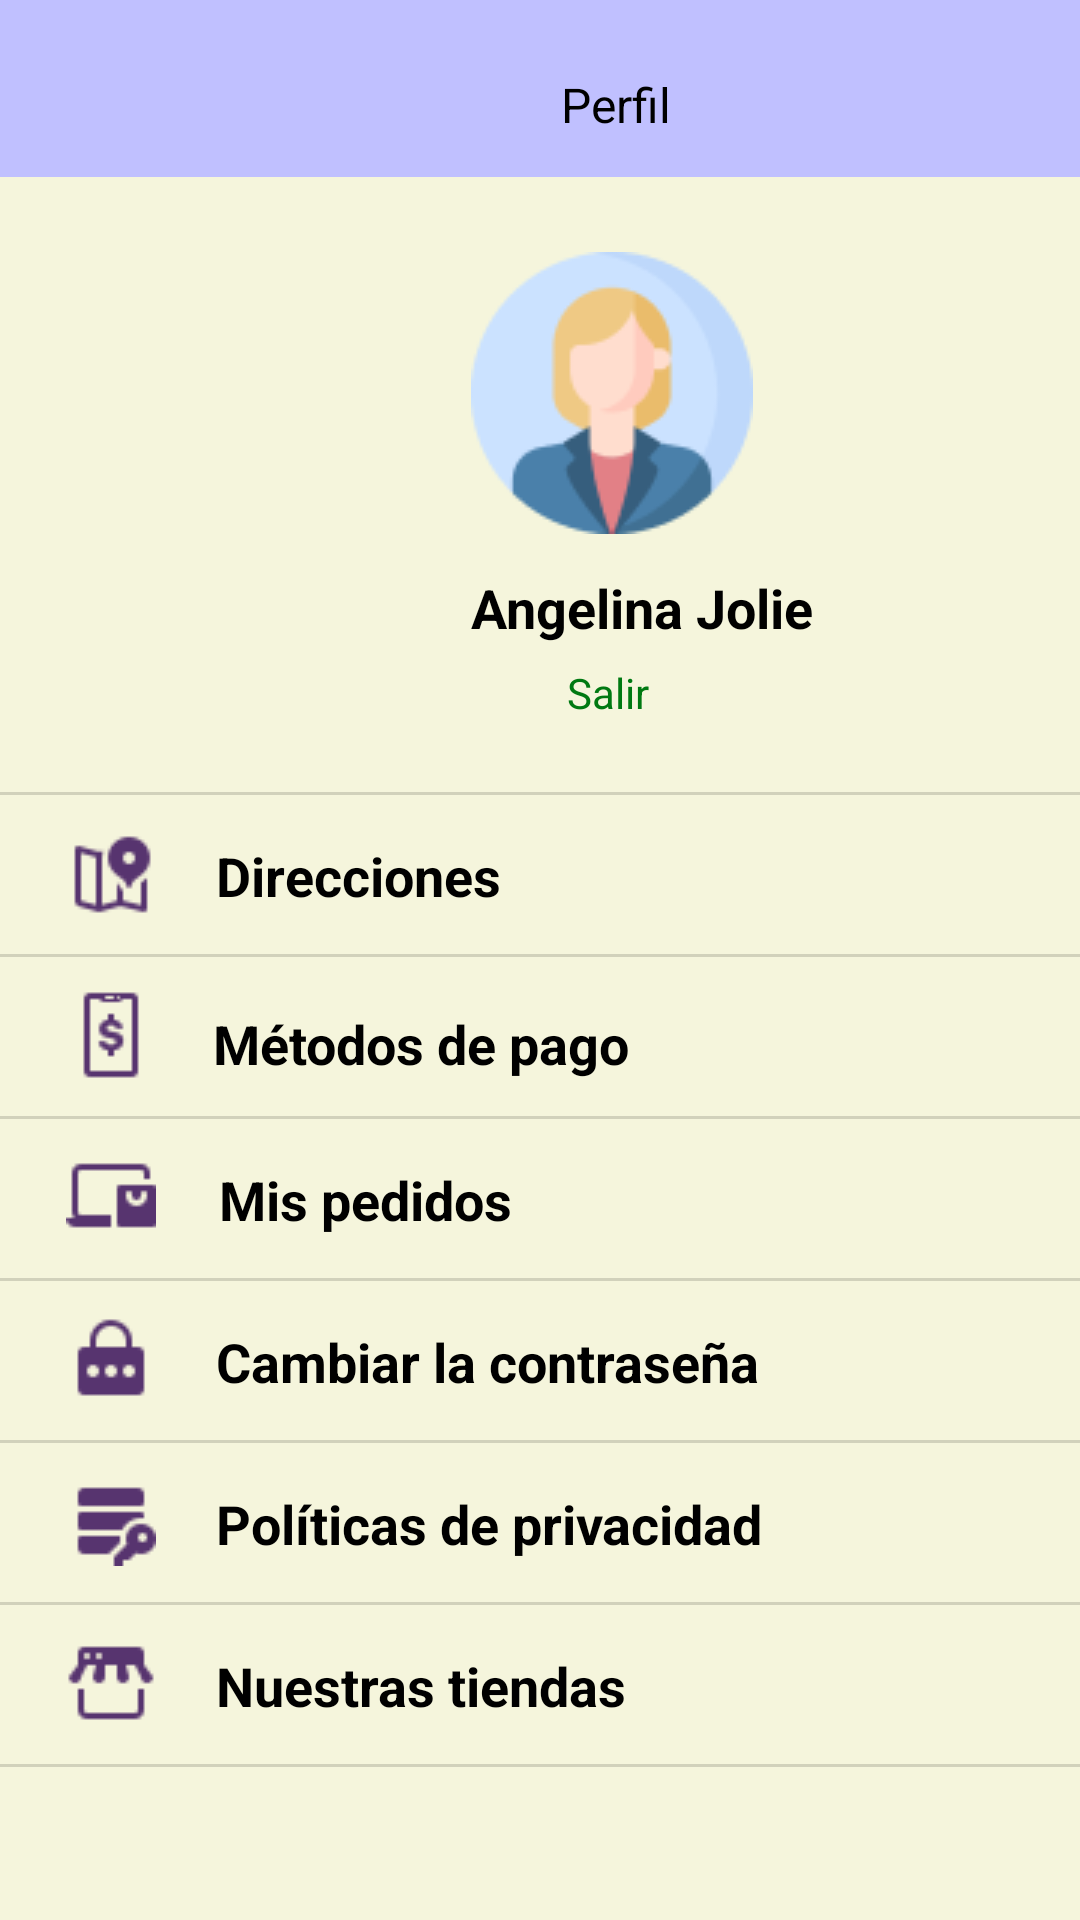

Icons on this 1080x1920 Android screen, each with the point to tap as [x,y]:
data encryption: [116,1526]
map marker: [112,874]
mobile payment: [111,1035]
online shopping: [111,1195]
online store: [111,1683]
password: [111,1357]
